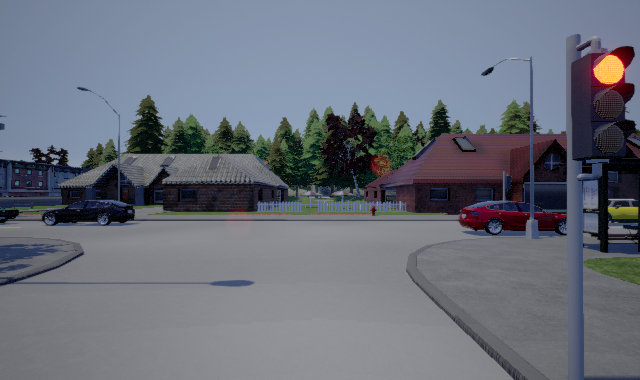traffic_light: (571, 45, 636, 160)
vehicle: (459, 200, 571, 235), (42, 200, 135, 226), (608, 199, 638, 223)
